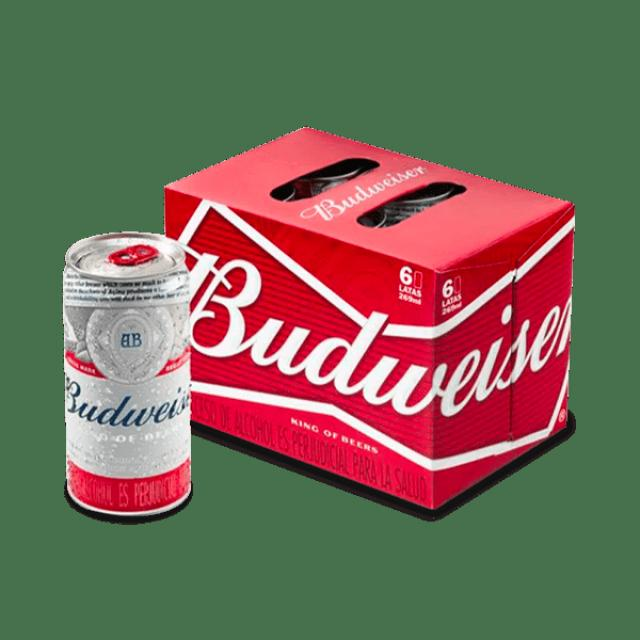Carton: (165, 126, 576, 510)
Lata: (57, 228, 201, 516)
